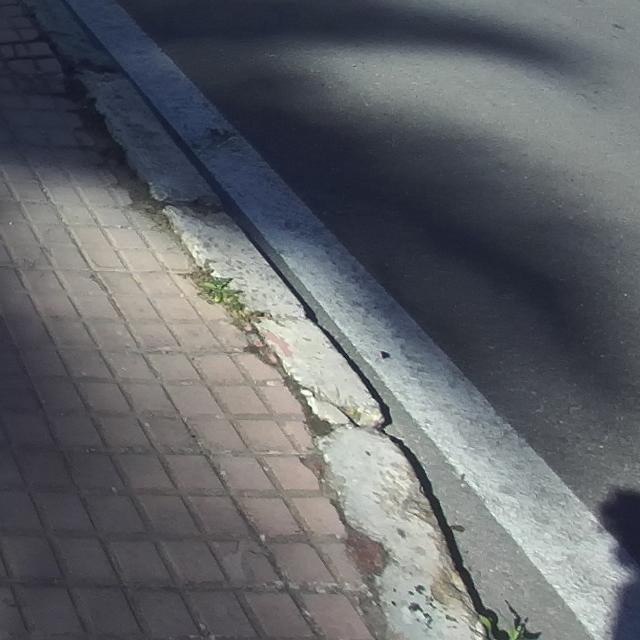calcada_quebrada: (0, 43, 74, 95)
